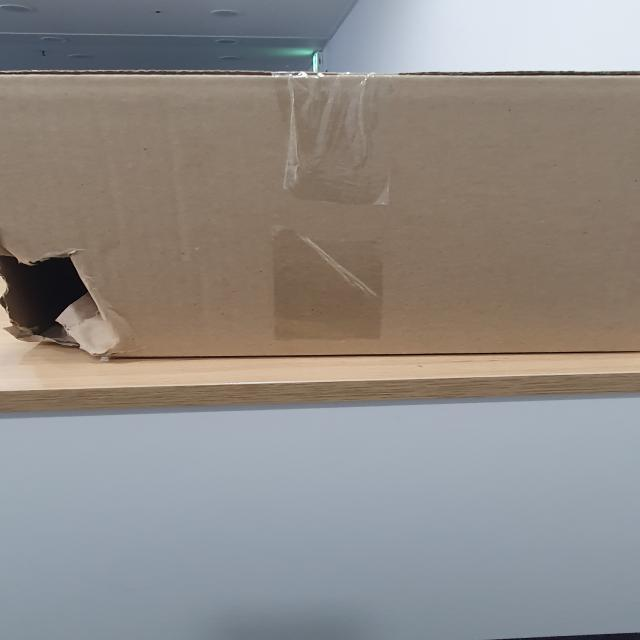hole: (0, 242, 121, 360)
